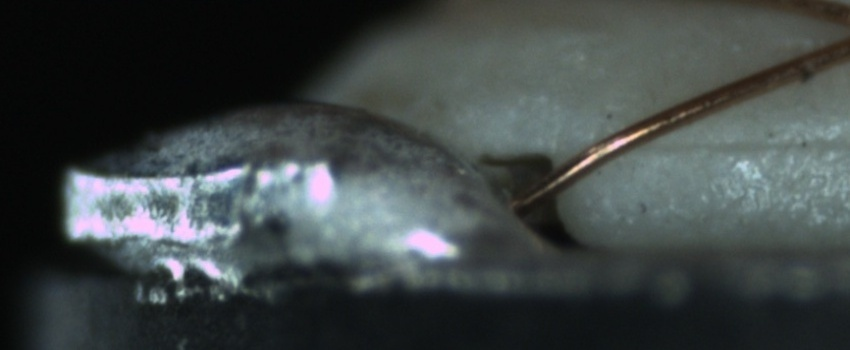DL: (633, 113, 849, 174)
